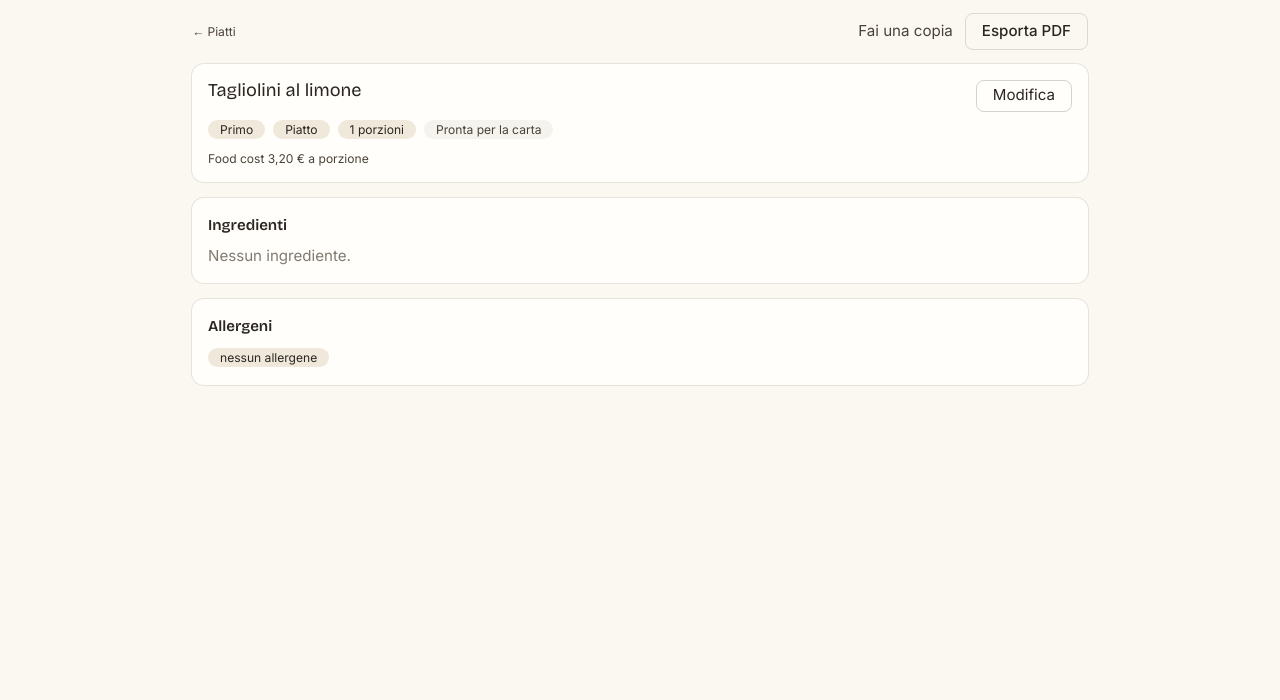
Test: 🔴 la scheda di un piatto, pannello «Nei menu» › un primo: il «+ menu» c'è come prima, e la frase no
The width and height of the screenshot is (1280, 700).
Click the button "Modifica" at (1024, 96), box left=976, top=80, right=1072, bottom=112
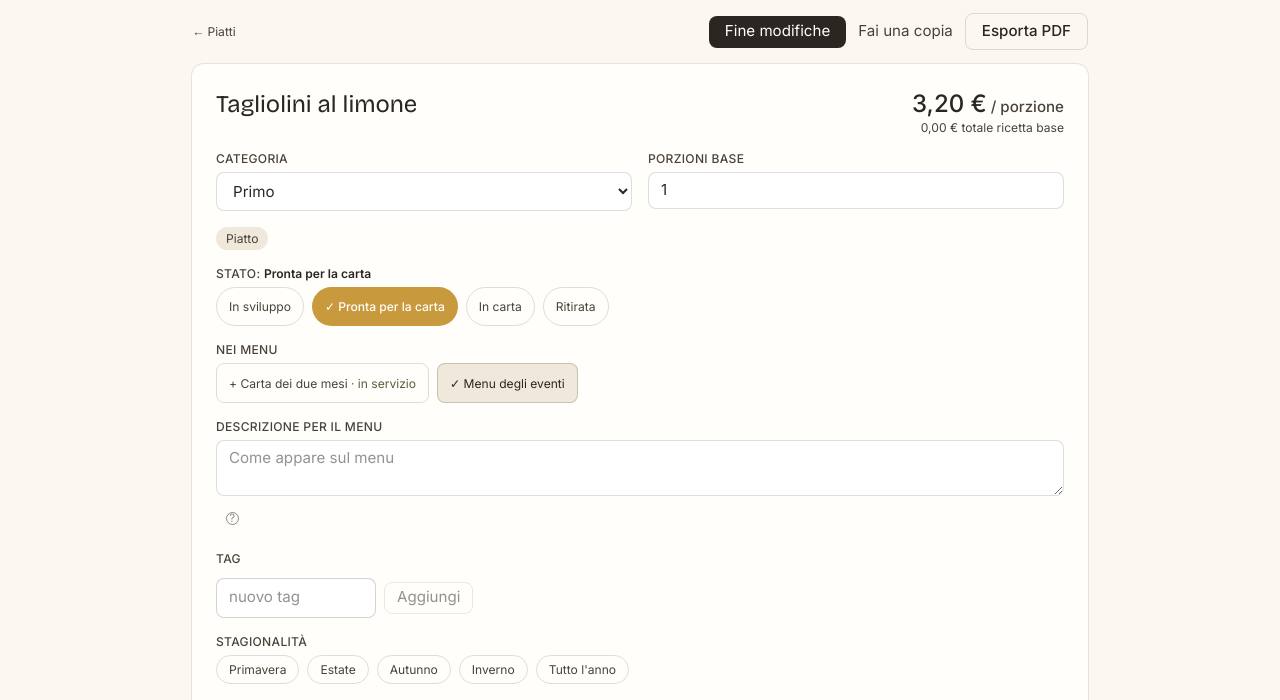
Now the text "Nei menu" is shown, box left=216, top=342, right=278, bottom=357
Now the button "+ Carta dei due mesi · in servizio" is shown, box left=216, top=364, right=429, bottom=403
